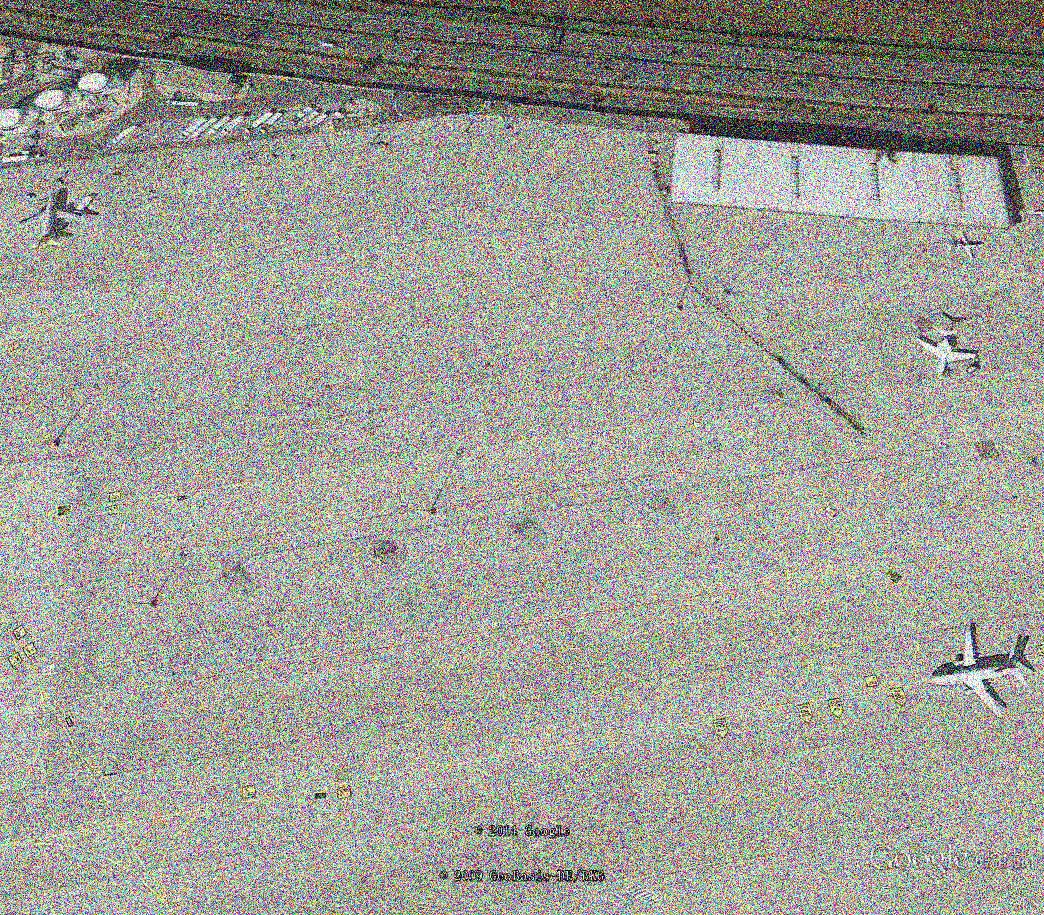aircraft: (925, 625, 1033, 721), (10, 189, 96, 252), (915, 322, 985, 384), (942, 229, 990, 264)
